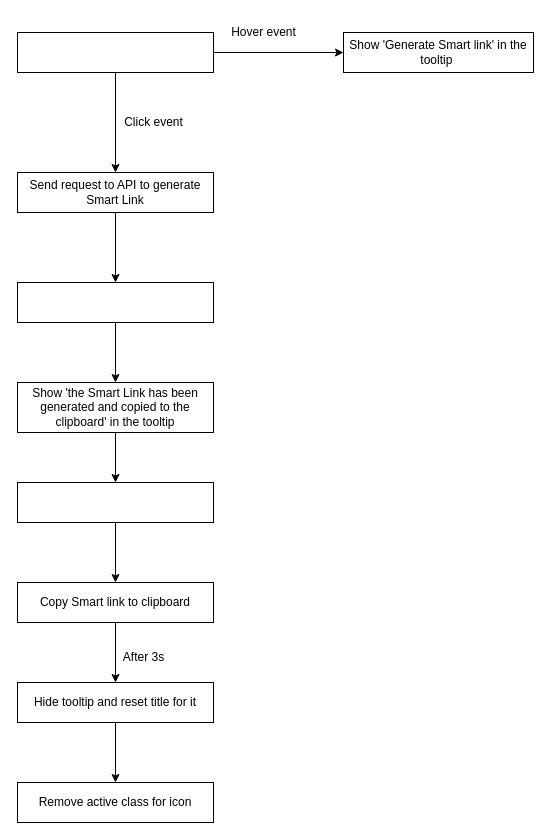
This 551x840 diagram has some shape labels left out. The centre of each missing label's shape, as x and y in pixels:
Add active class for icon: [115,502]
Default state: [115,52]
Return from API new generated Smart Link: [115,302]
